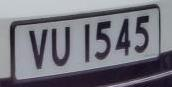1: (78, 18, 96, 67)
4: (113, 13, 135, 63)
5: (92, 15, 115, 65), (131, 11, 152, 59)
U: (49, 23, 75, 70)
V: (26, 25, 52, 73)
